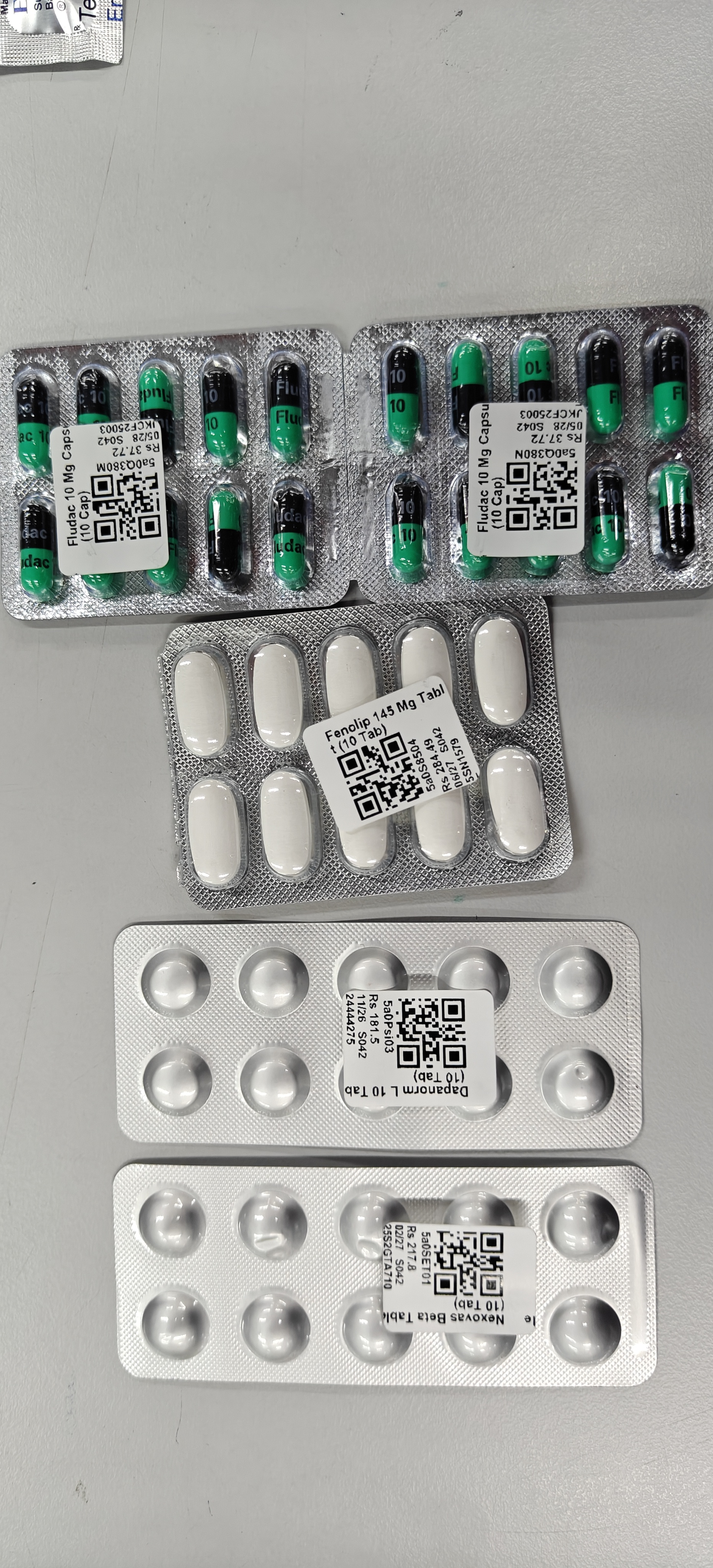qr_code: (90, 277, 711, 820), (138, 441, 529, 760), (336, 731, 425, 821), (90, 469, 161, 543), (506, 460, 577, 531), (395, 998, 466, 1068)
